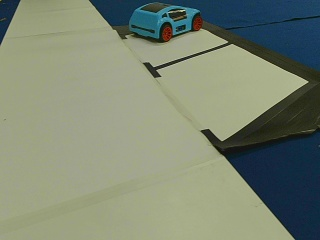car: (128, 3, 203, 42)
